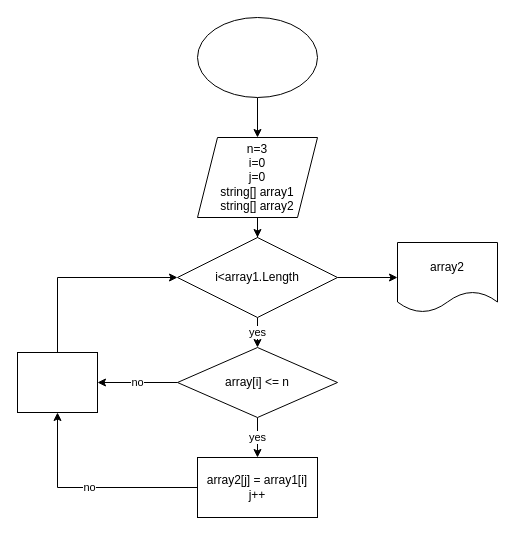
Some shapes in this 515 by 535 pixel diagram are drawn without their labels. Here are the shapes that lost their labels. From the top down, the centre of each, then its label:
At (257,57): "start".
At (57,382): "i++".
